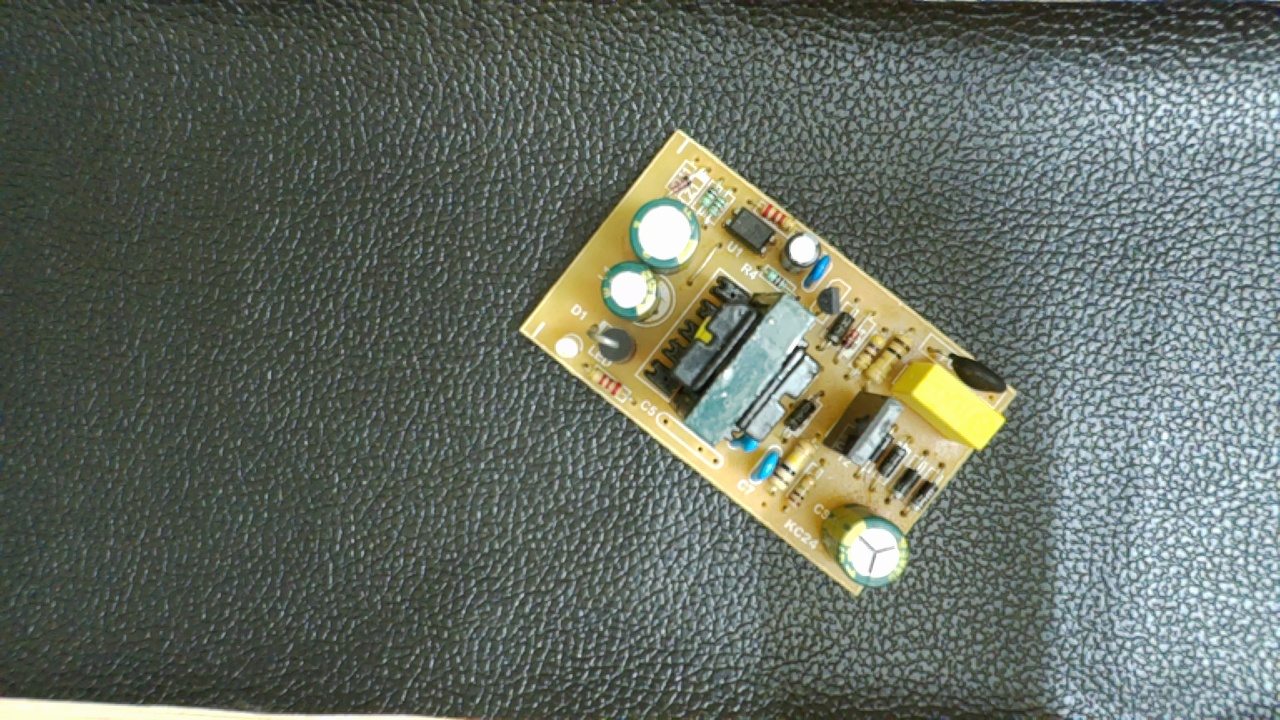fuse: (930, 350, 1013, 399)
hv_capacitor: (815, 503, 911, 591)
optocoupler: (717, 200, 785, 260)
